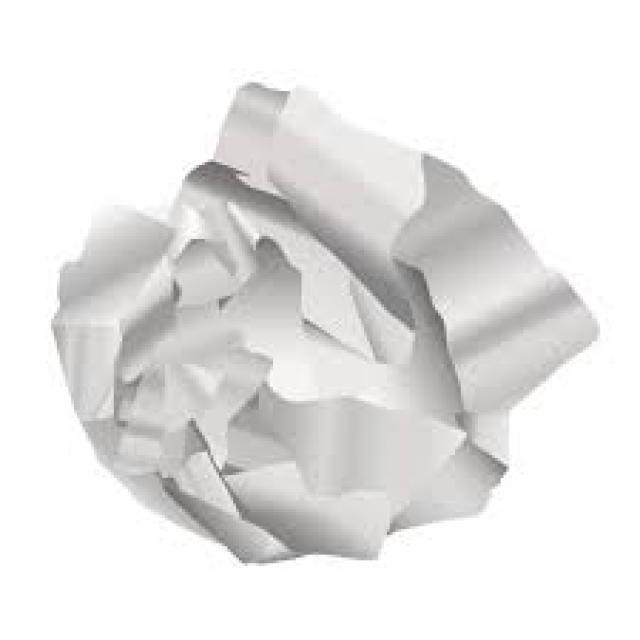Paper: (55, 83, 600, 563)
